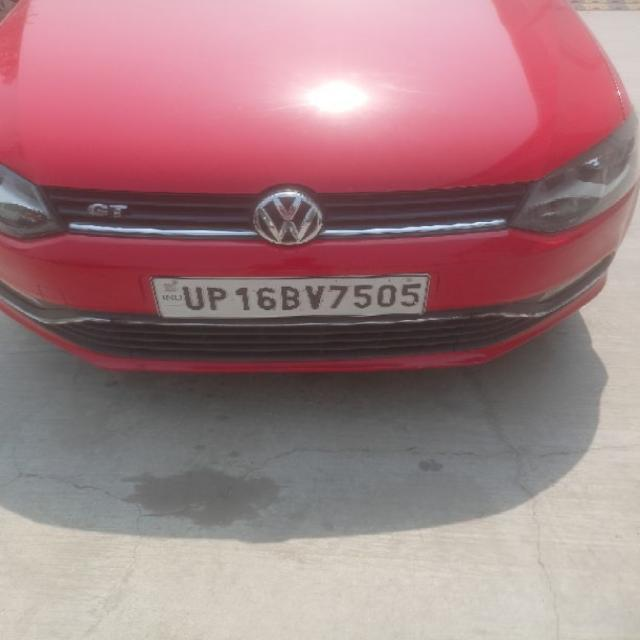license_plate: (148, 272, 430, 319)
